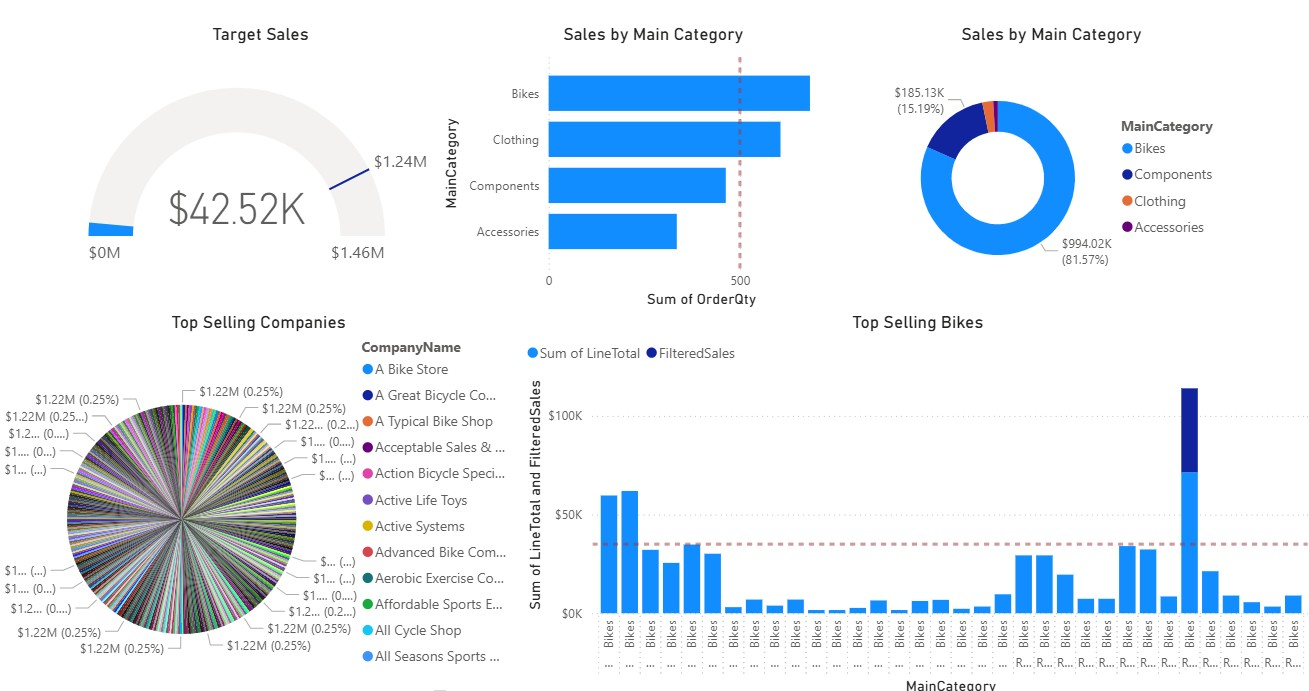

This screenshot's page, from the dashboard's own definition file:
{"tool":"powerbi","page":{"name":"Page 1","canvas":[1280,720],"ordinal":0},"visuals":[{"type":"gauge","title":"Target Sales","fields":{"Y":["Max(Sales.LineTotal)"],"TargetValue":["Sum(Sales.TargetSales)"]},"box":[84.1,56.6,344.6,279.9],"z":0},{"type":"pieChart","title":"Top Selling Companies","fields":{"Category":["Customers.CompanyName"],"Y":["Sum(Sales.LineTotal)"]},"box":[0,336.5,509.7,383.5],"z":1000},{"type":"barChart","title":"Sales by Main Category","fields":{"Category":["Sales.MainCategory"],"Y":["Sum(Sales.OrderQty)"]},"box":[428.3,56.7,420,280],"z":2000},{"type":"donutChart","title":"Sales by Main Category","fields":{"Category":["Sales.MainCategory"],"Y":["Sum(Sales.LineTotal)"]},"box":[847.8,56.6,354.3,279.9],"z":3000},{"type":"columnChart","title":"Top Selling Bikes","fields":{"Category":["Sales.Product","Sales.MainCategory"],"Y":["Sum(Sales.LineTotal)","Sales.FilteredSales"]},"box":[509.7,336.5,770.2,383.5],"z":4000}]}

Visuals, with their boxes on the page's 1280x720 design canvas (x1, y1, x2, y2). These are canvas units, not pixel positions in the 1309x691 screenshot, which may show the page scaled, cropped or inside an application window:
"Target Sales" gauge: 84:57:429:336
"Top Selling Companies" pieChart: 0:336:510:720
"Sales by Main Category" barChart: 428:57:848:337
"Sales by Main Category" donutChart: 848:57:1202:336
"Top Selling Bikes" columnChart: 510:336:1280:720
